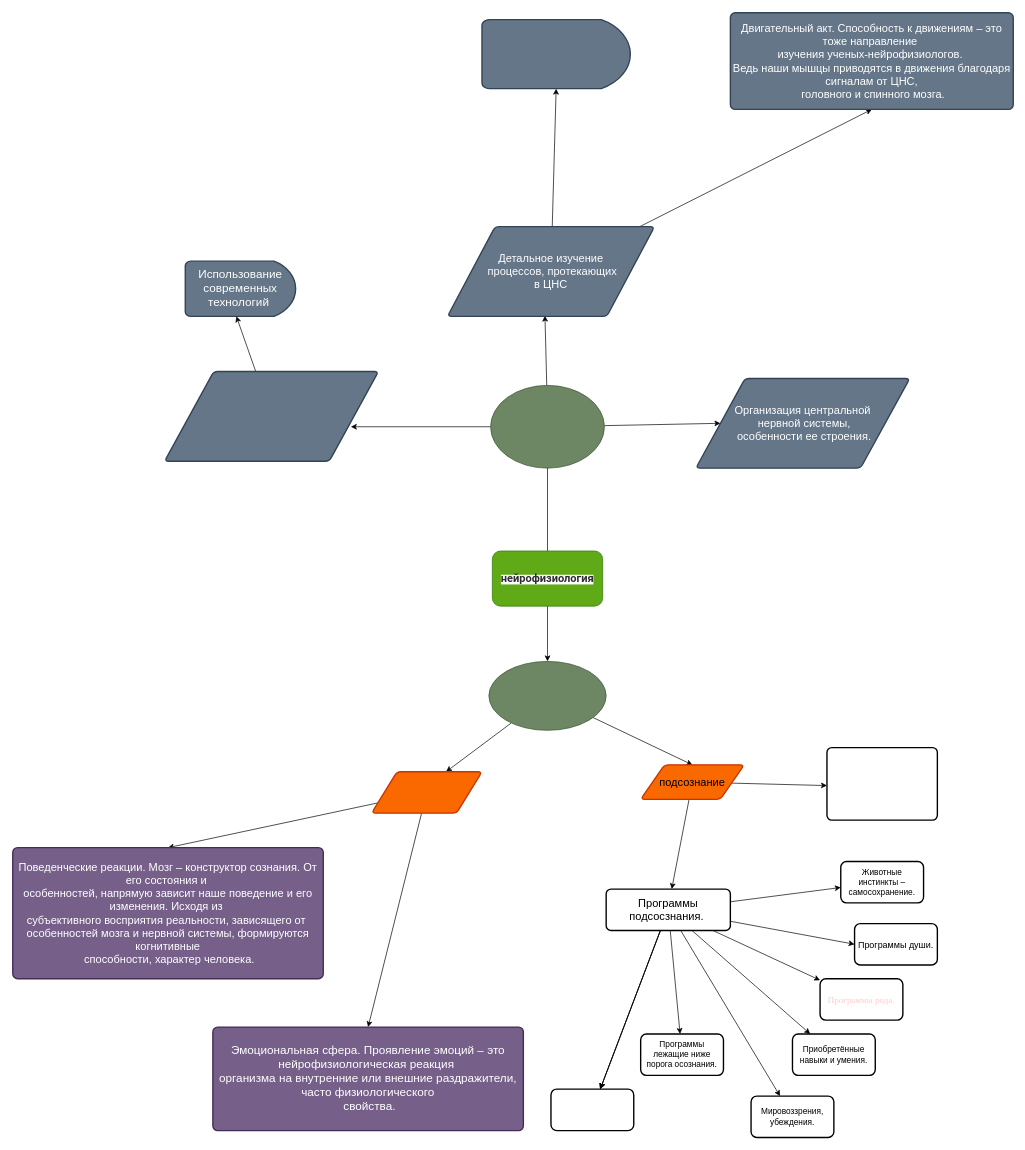
This 1025x1150 diagram has some shape labels left out. The shapes that lost their labels are listed below. From the top down, each one's centre as x and y in pixels, then its label:
At (556,54): "Подробная структурная организация отделов головного мозга".
At (271,416): "Исследования ЦНС и научная и врачебная практика".
At (547,426): "низшая нейрофизиология".
At (547,695): "высшая нейрофизиология".
At (426,792): "сознание".
At (882,783): "не изученная часть".
At (592,1109): "Программы ограничения.".
